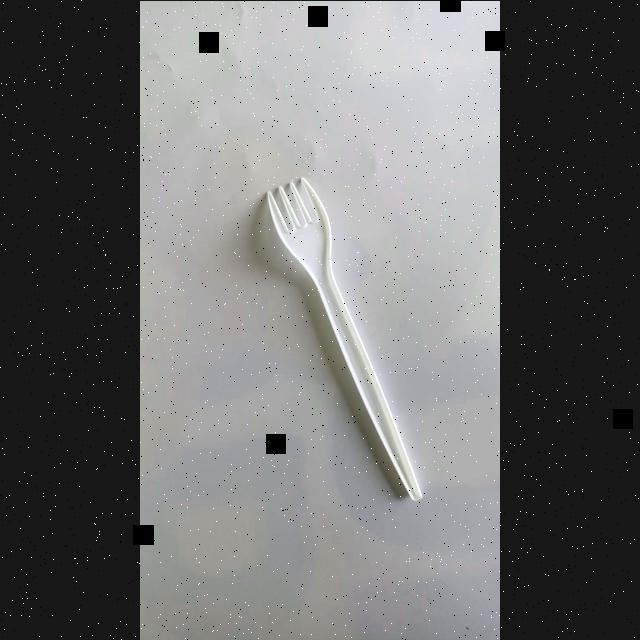plastic_cultery: (260, 166, 428, 504)
